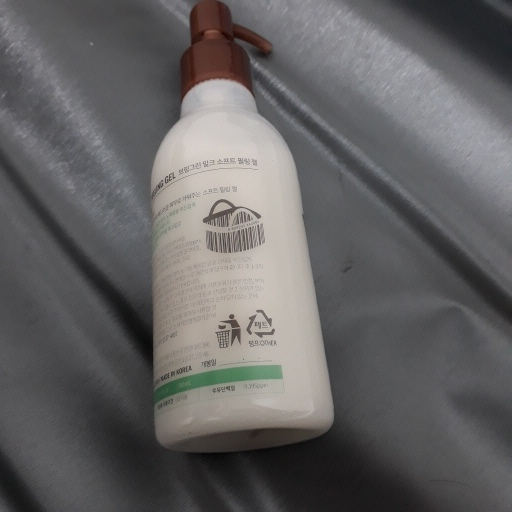Plastic_3: (145, 3, 334, 451)
